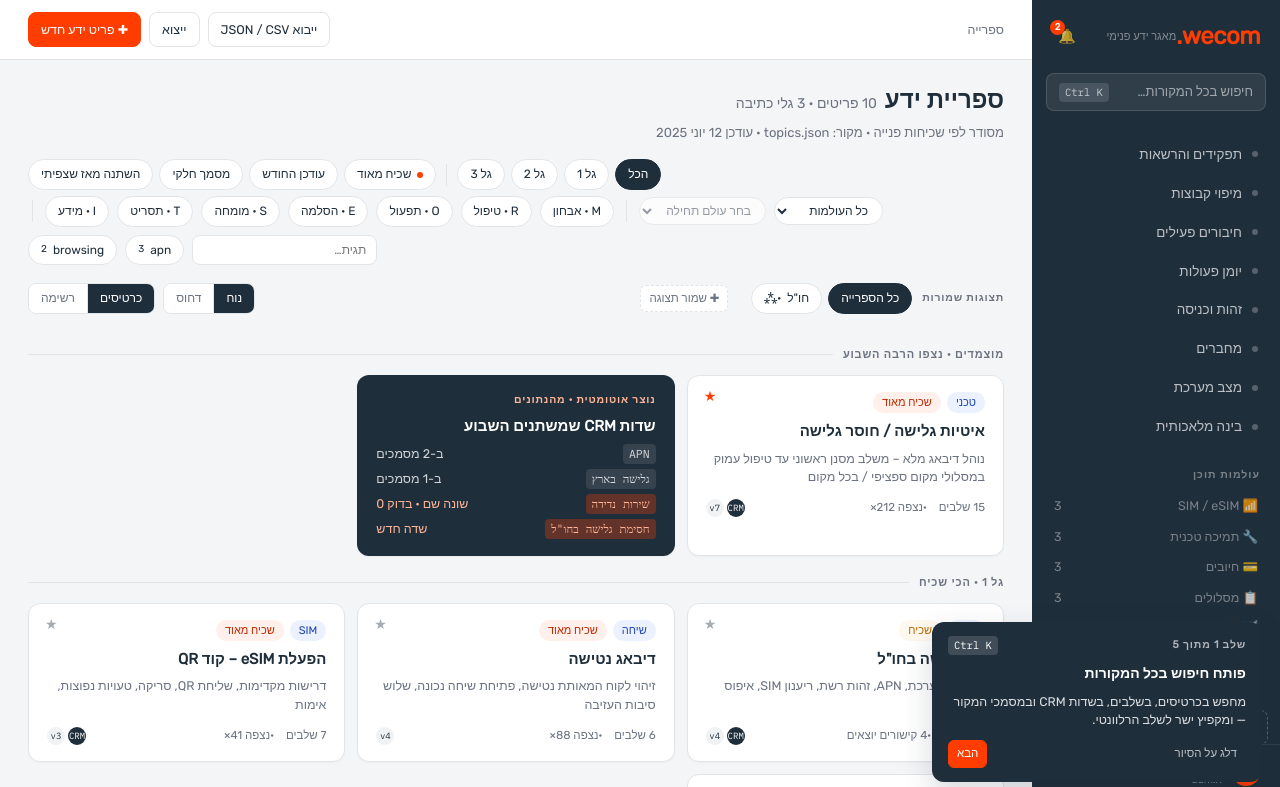
Test: W6 shell mounts › lists worlds and their topics from the API instead of the hard-coded categories
The image size is (1280, 787).
(page scrolled)
Step 1. Click the text "תמיכה טכנית" → (1205, 536), box [1170,529,1239,544]
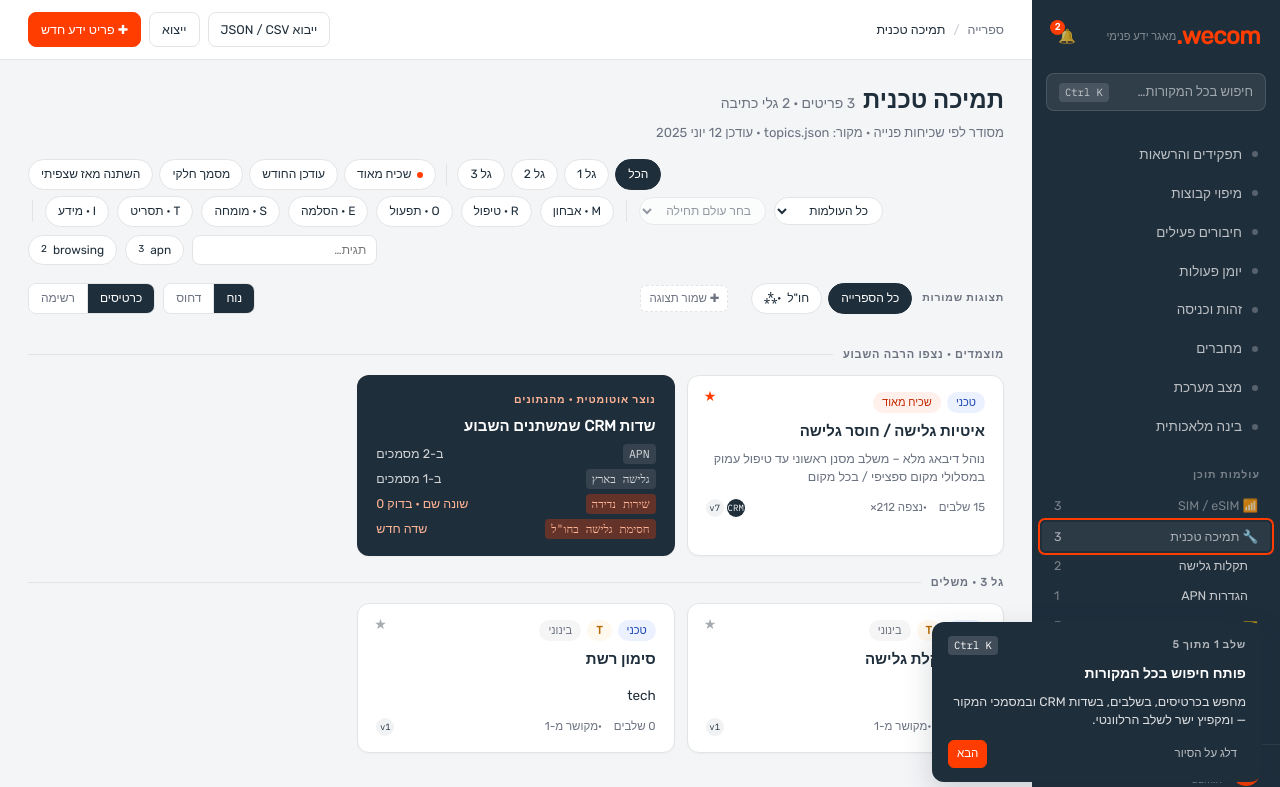
Check: the text "תקלות גלישה" is shown, box [1179,556,1248,576]
